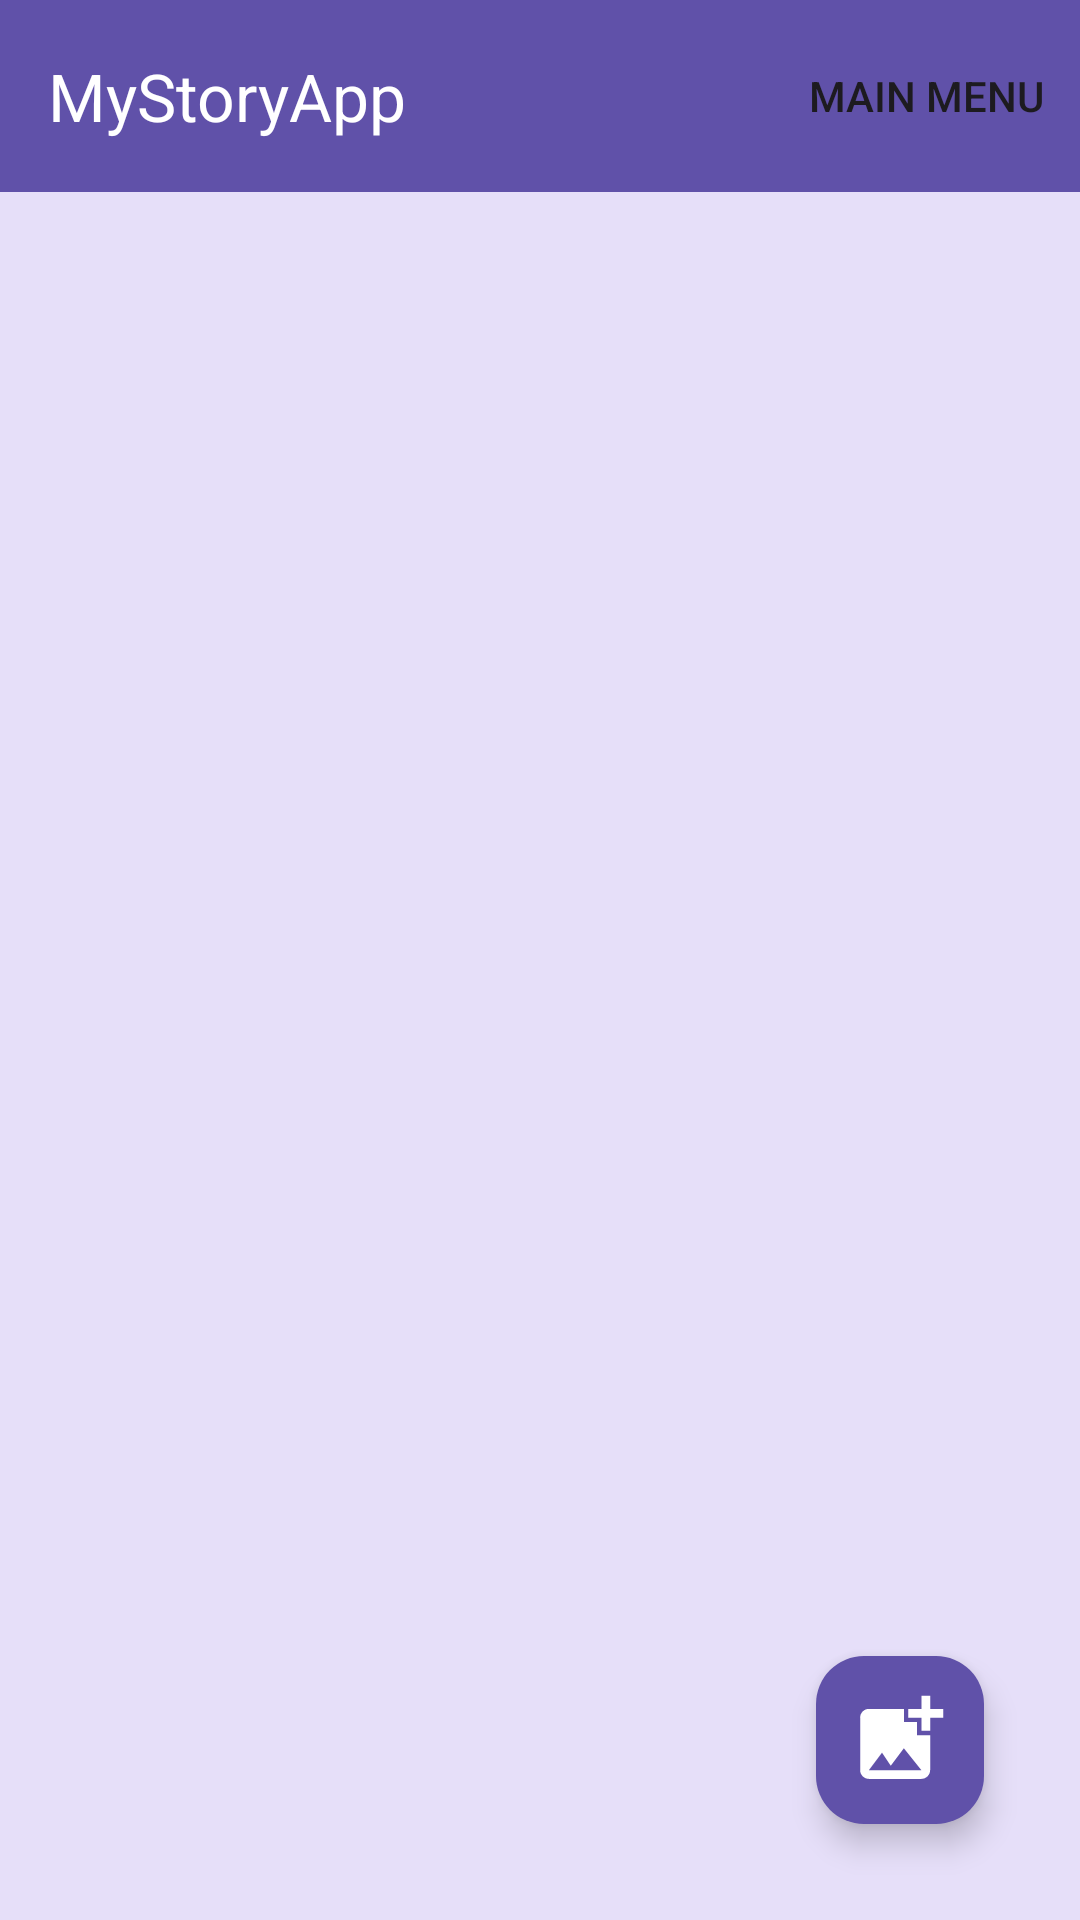

Point at icon controls on the screen. Image size 1080 x 1920, points as point (x, y).
Add Story: point (900, 1740)
